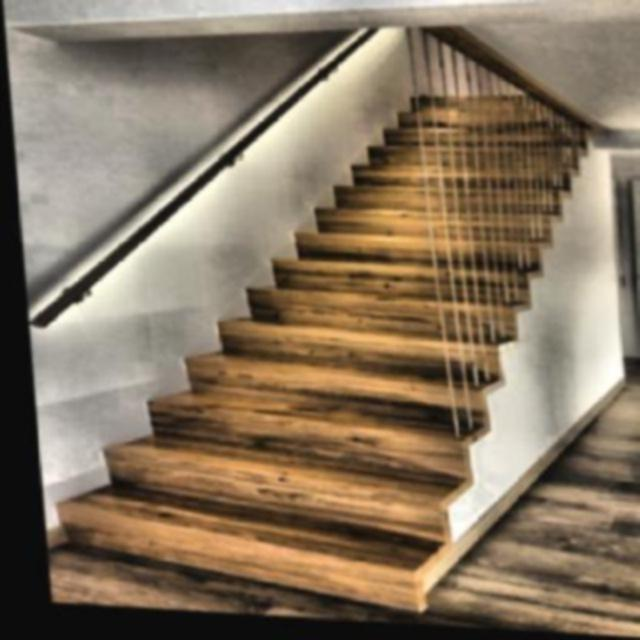stair: (17, 71, 640, 549)
